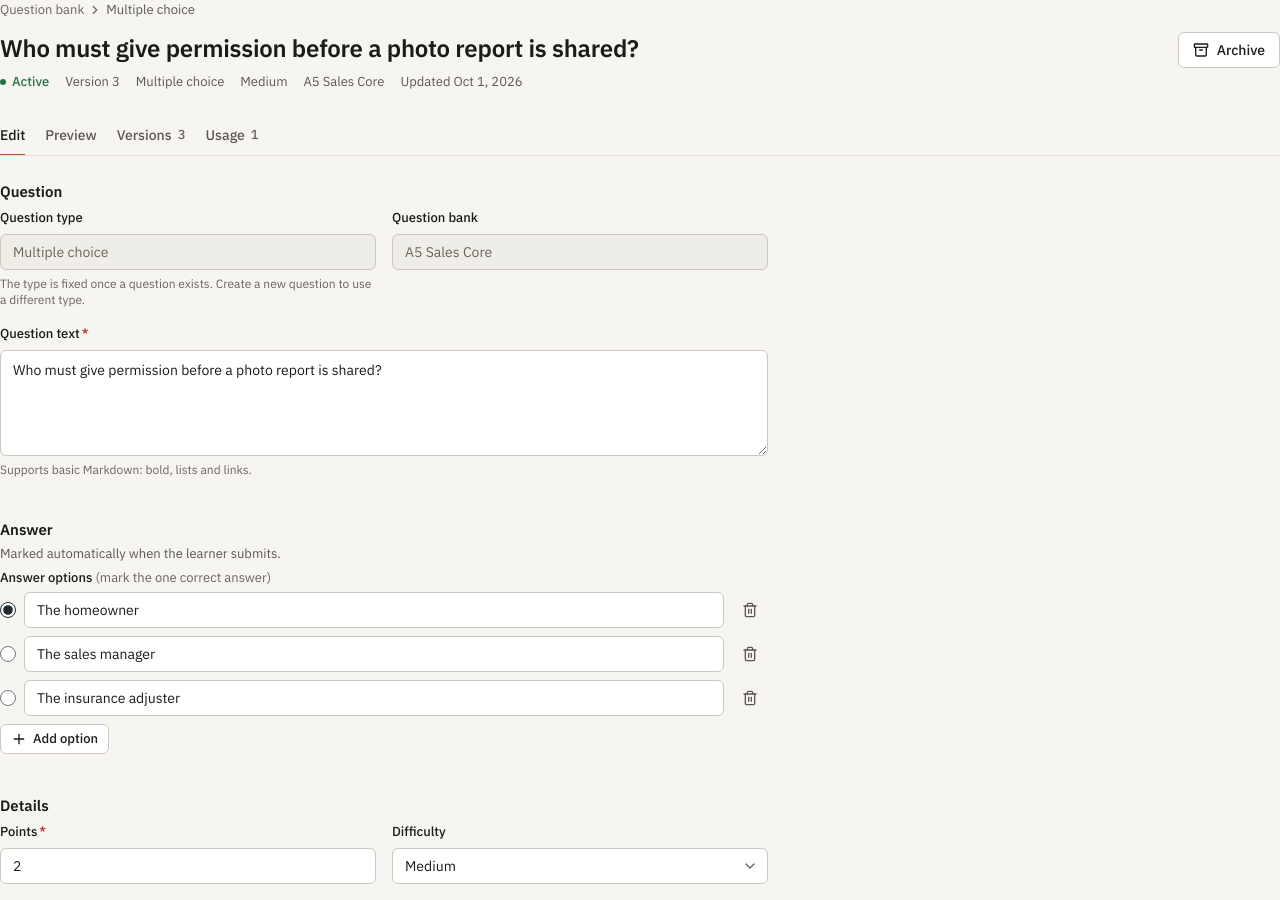
Test: QuestionEditorPage (existing question) › archives after confirmation and shows the server reason when it is refused
What coordinates should you click on to do the following:
click the button "Archive"
I would click on:
 (1229, 50)
Its box is [1178, 32, 1279, 68].
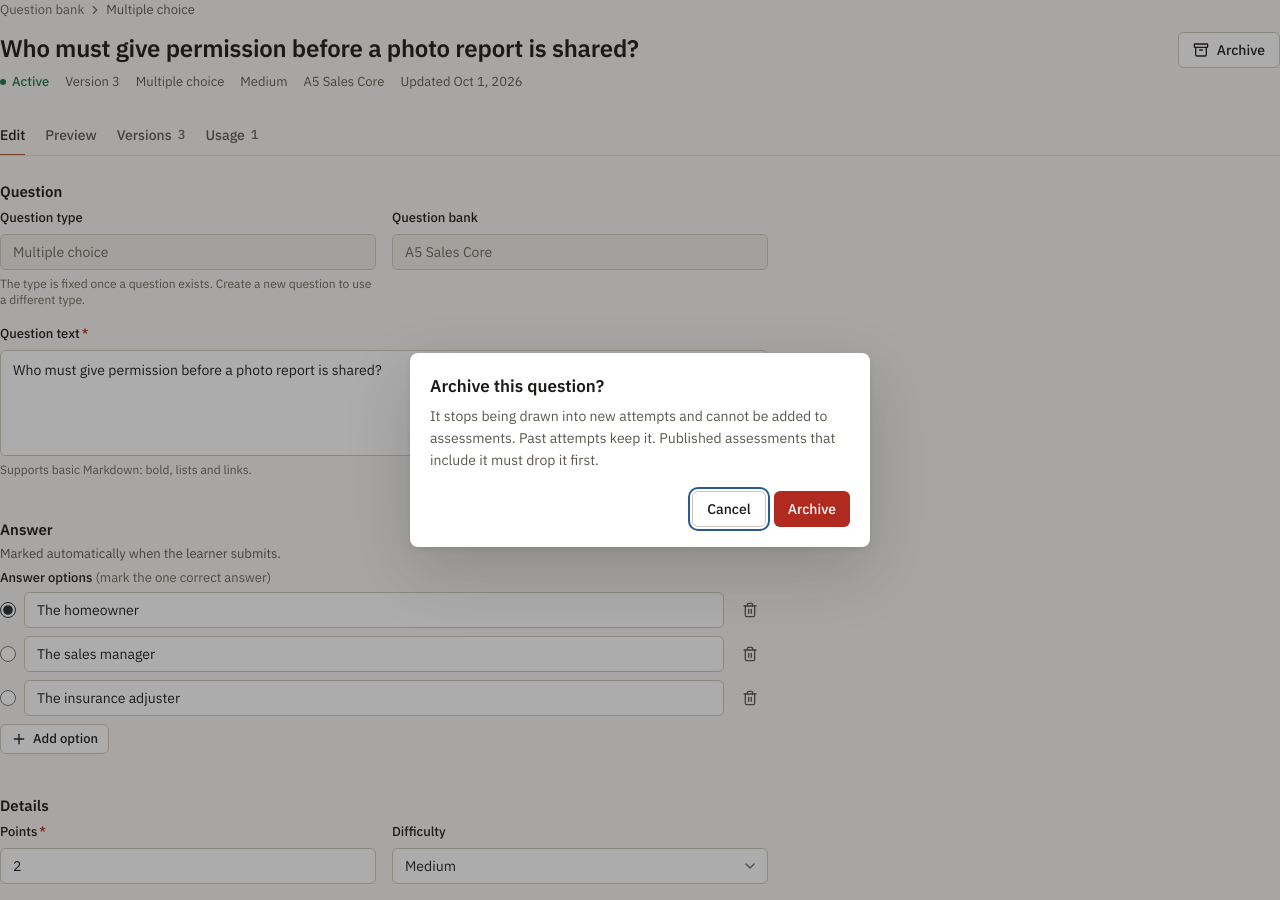
Check: the dialog shows "Published assessments that include it must drop it first.", box [430, 429, 835, 469]
What coordinates should you click on to do the following:
click the button "Archive"
I would click on:
 (812, 509)
Its box is [774, 491, 850, 527].
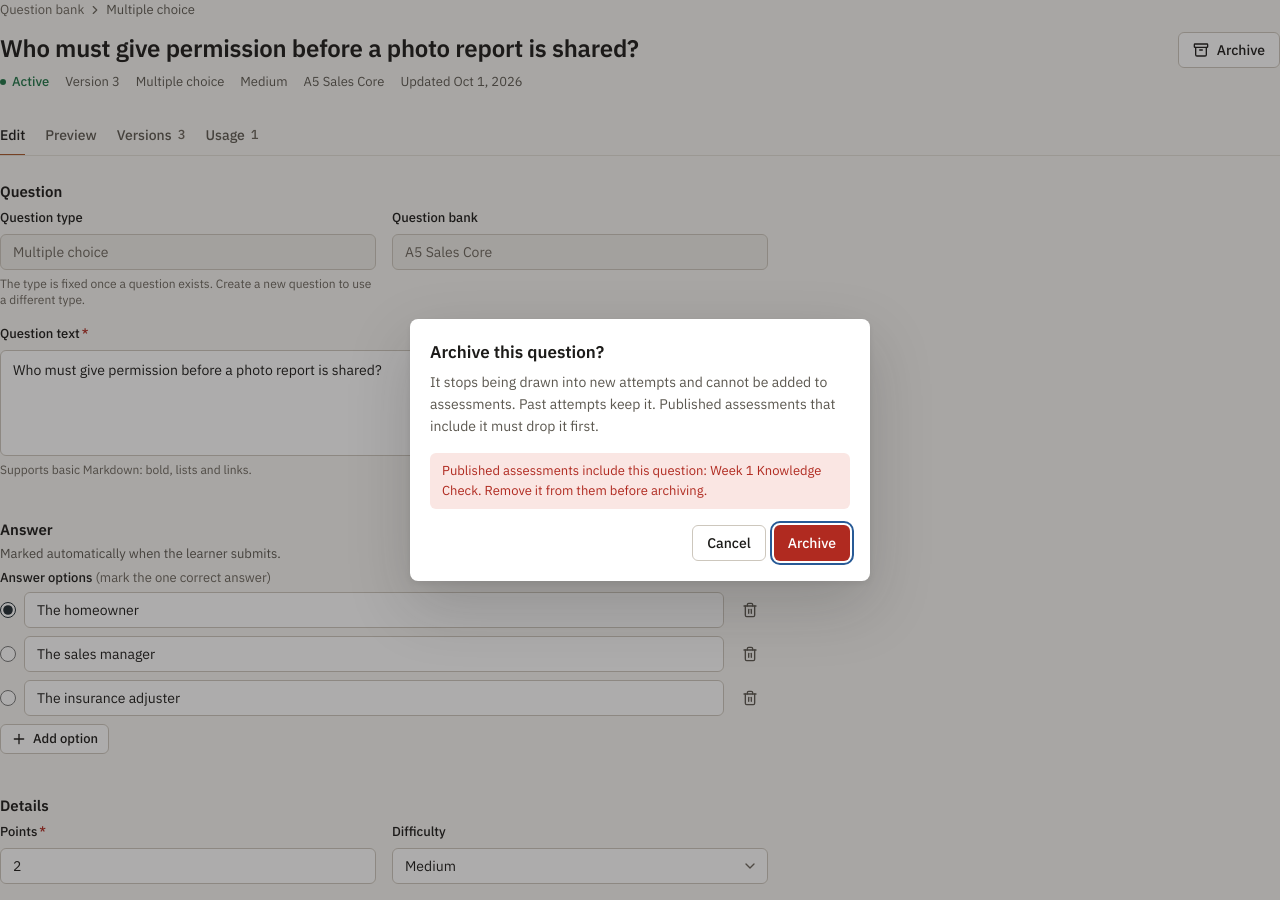
Check: the text "Remove it from them before archiving" is shown, box [442, 462, 822, 499]
